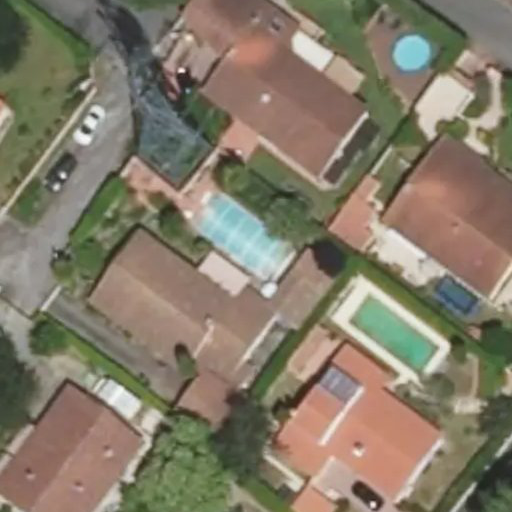pool: (351, 297, 440, 373), (199, 198, 279, 271), (392, 34, 431, 71)
